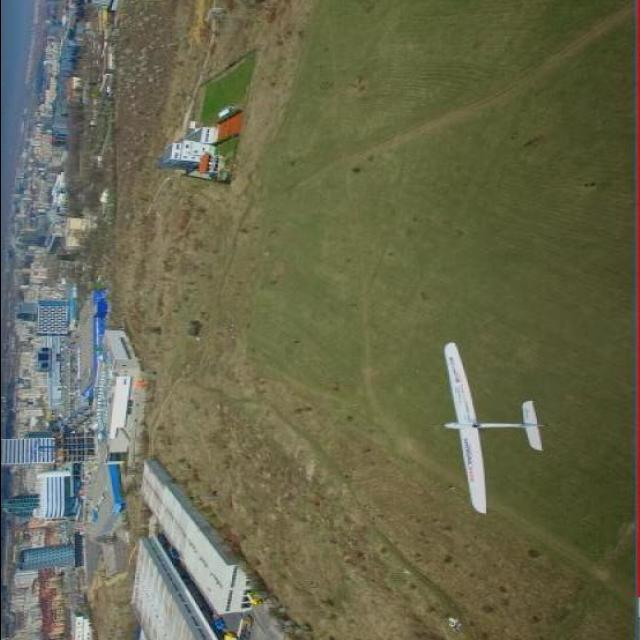plane: (440, 342, 545, 516)
